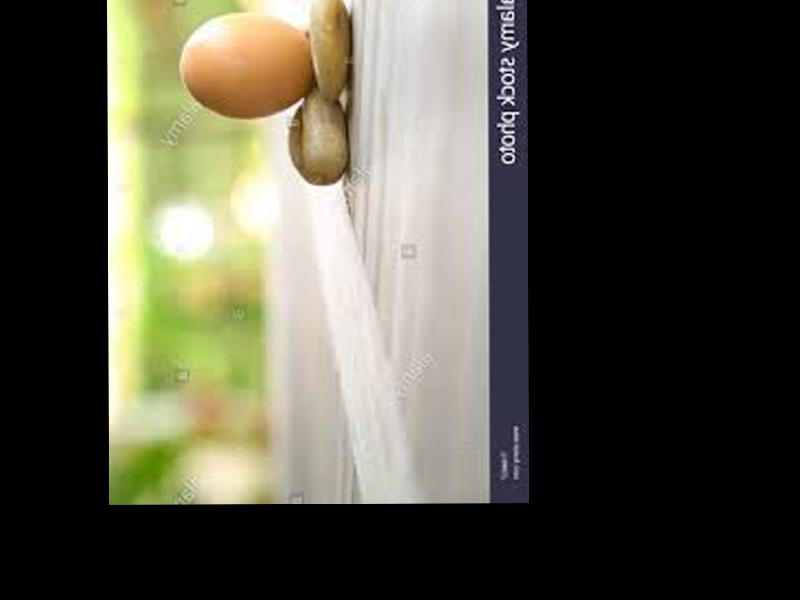Eggs: (181, 10, 313, 120)
